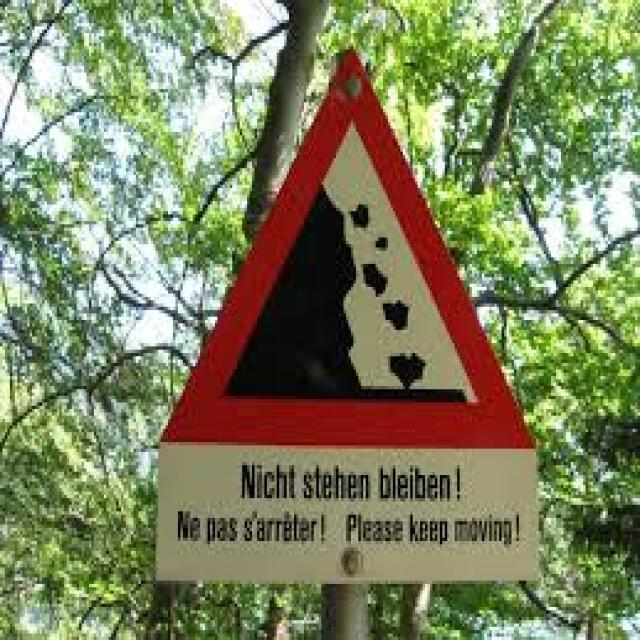falling rocks: (133, 39, 548, 460)
